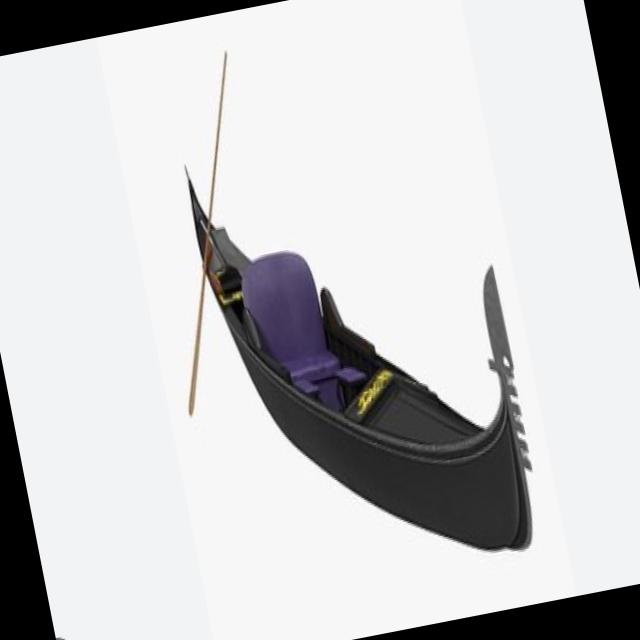boat: (165, 87, 568, 627)
